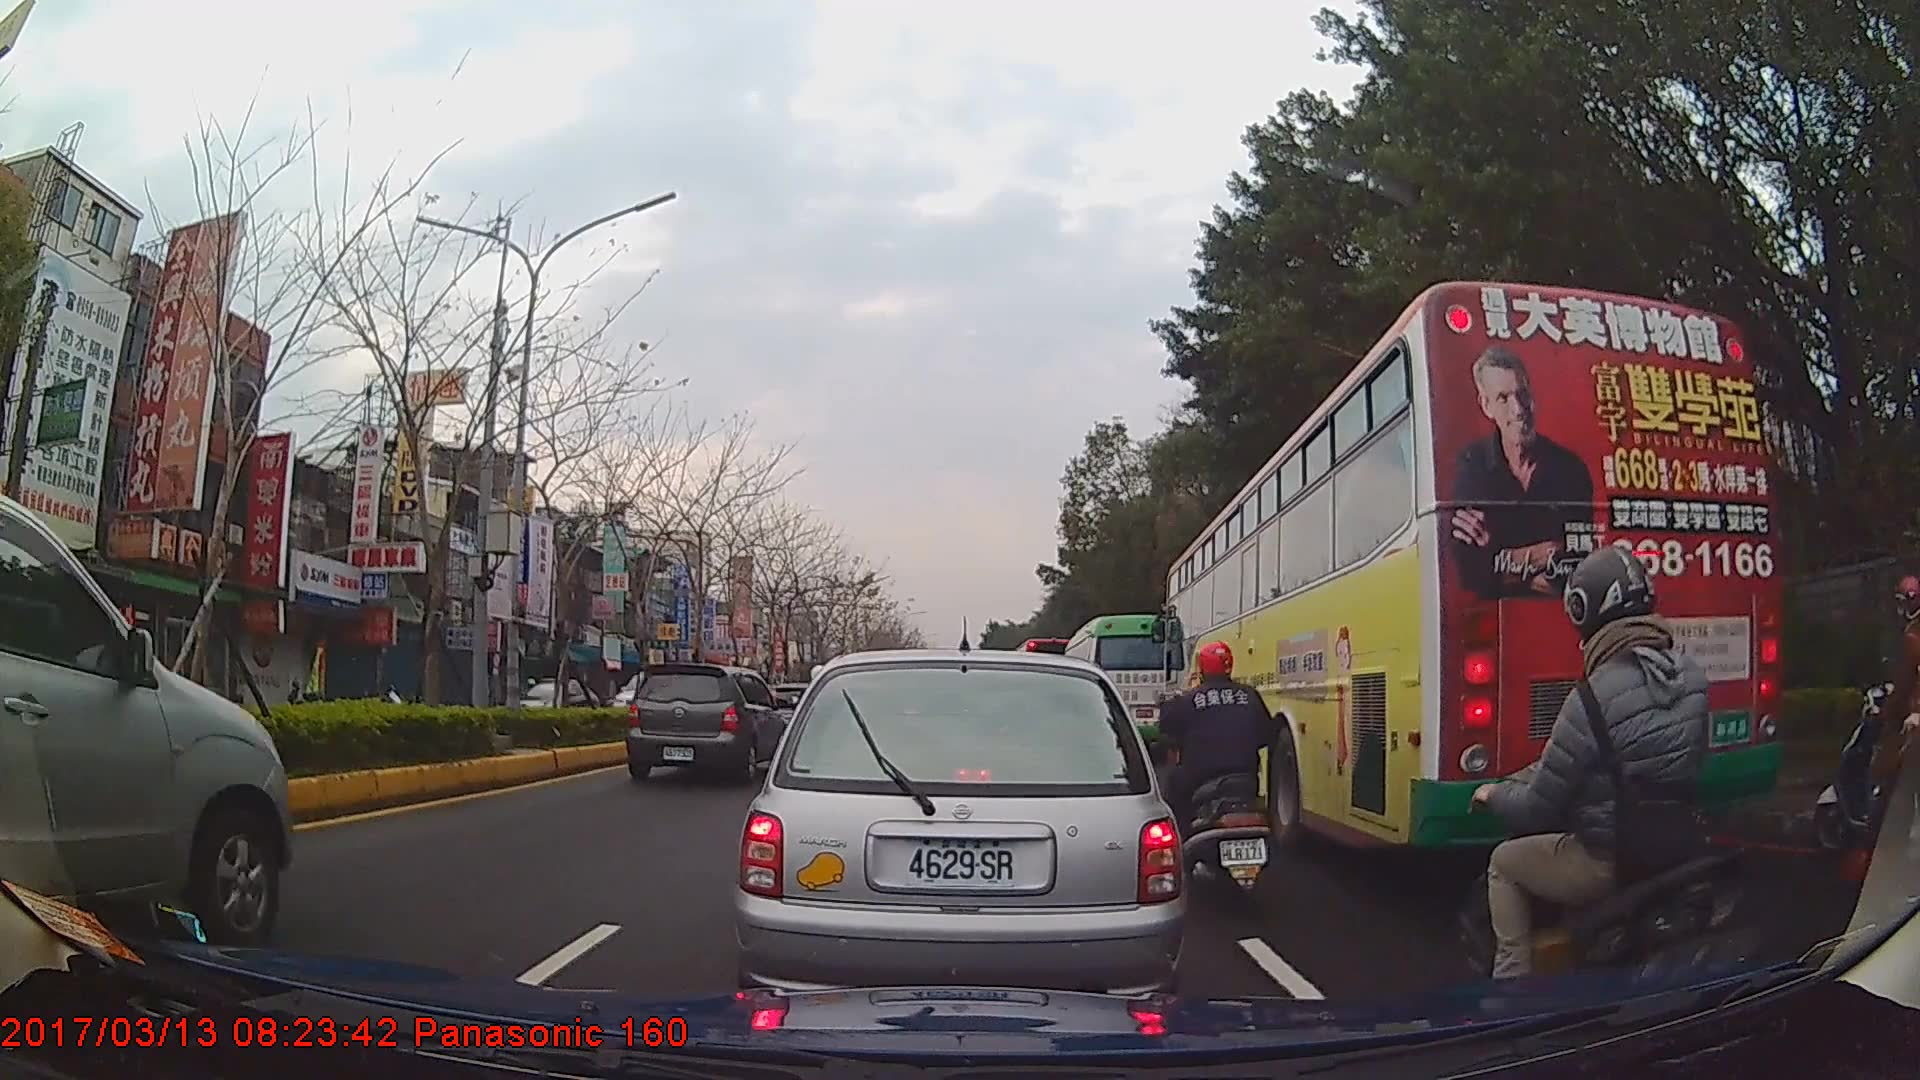rider: (1474, 544, 1738, 1043), (1148, 639, 1279, 915), (1814, 575, 1920, 882), (404, 676, 426, 707)
vehicle: (1160, 277, 1781, 870), (732, 648, 1187, 1021), (0, 477, 289, 965), (1059, 612, 1190, 765), (624, 663, 787, 782), (505, 672, 598, 731)
